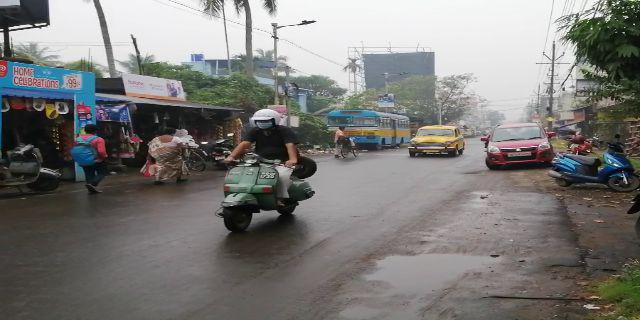Car: (486, 122, 550, 168), (410, 123, 462, 160)
Motorbike: (218, 109, 310, 227), (544, 151, 635, 192)
